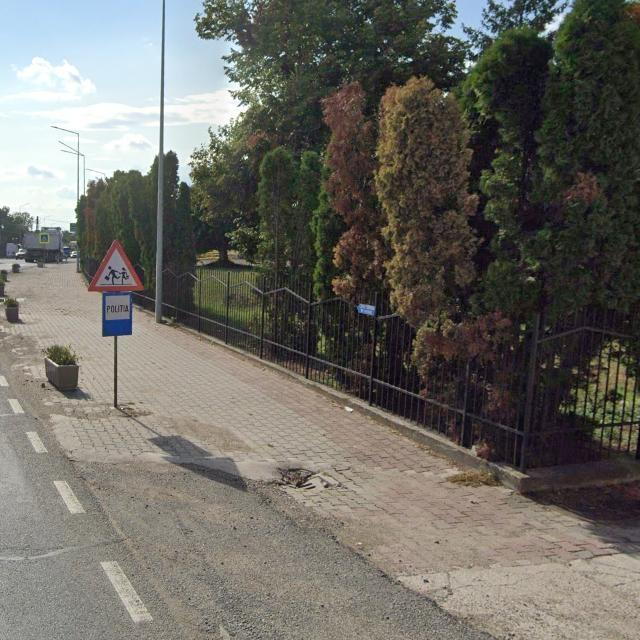info_crosswalk: (40, 233, 50, 244)
